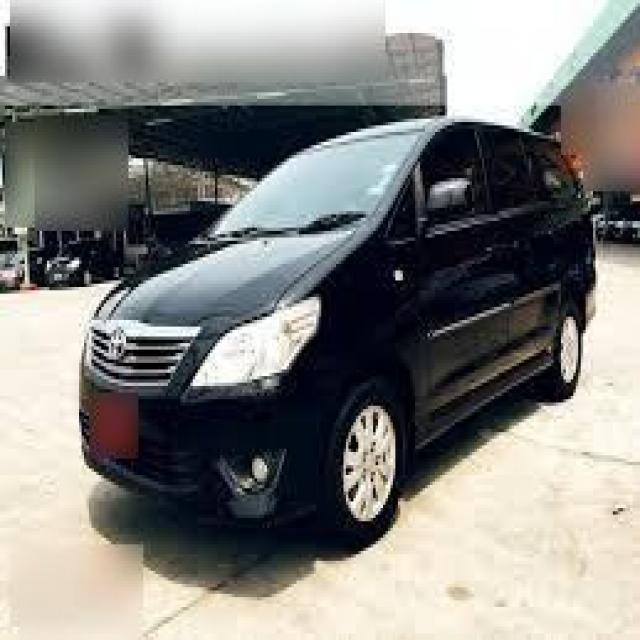back_left_door: (478, 122, 559, 372)
front_bumper: (79, 330, 337, 527)
front_glass: (203, 128, 422, 241)
front_left_door: (416, 124, 510, 419)
front_left_light: (190, 294, 318, 385)
hood: (91, 225, 358, 341)
left_mirror: (422, 177, 474, 245)
wheel: (334, 384, 407, 544), (555, 302, 582, 398)
